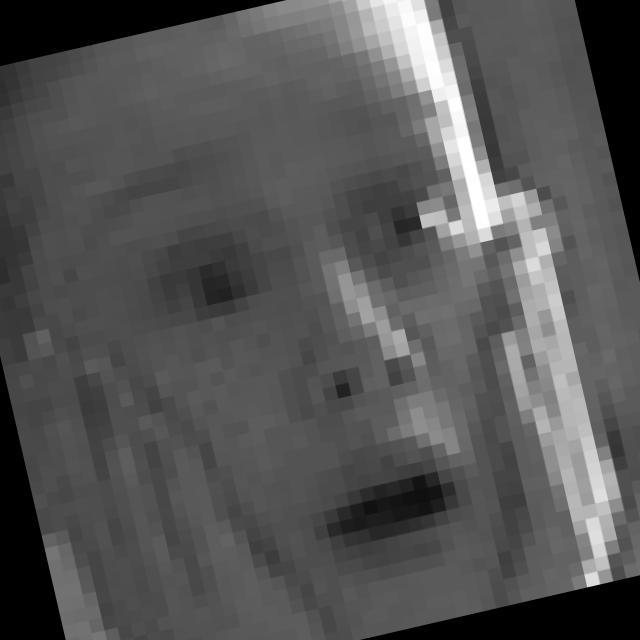surprise: (56, 94, 553, 612)
